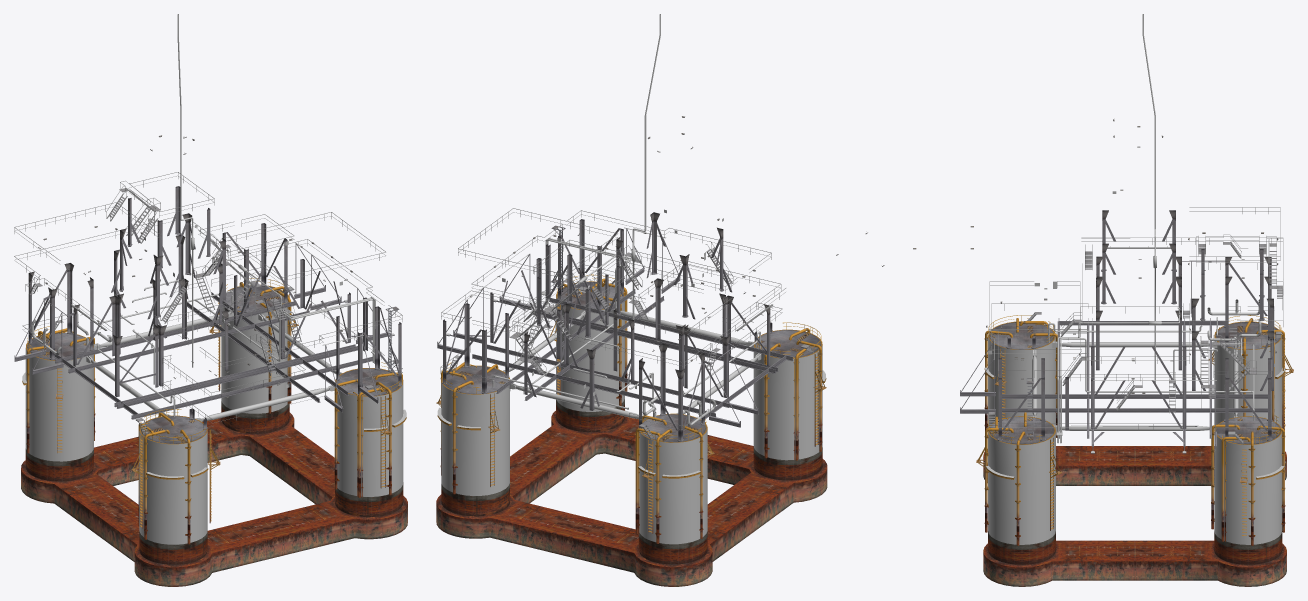
The model's file is oilRig_rigBody_AST.fbx.
The picture shows the model from 3 angles, left to right: view 1: azimuth 30°, elevation 25°; view 2: azimuth 150°, elevation 25°; view 3: azimuth 270°, elevation 25°; orthographic projection.
Parts seen in each view (by area): view 1: rigBody_AST; view 2: rigBody_AST; view 3: rigBody_AST.
Part boxes in pixels (x1=…): rigBody_AST: x1=14, y1=14, x2=407, y2=586; rigBody_AST: x1=436, y1=14, x2=884, y2=586; rigBody_AST: x1=913, y1=14, x2=1293, y2=586.
Bounding box in the file's own units: 5473 × 7949 × 5564.
